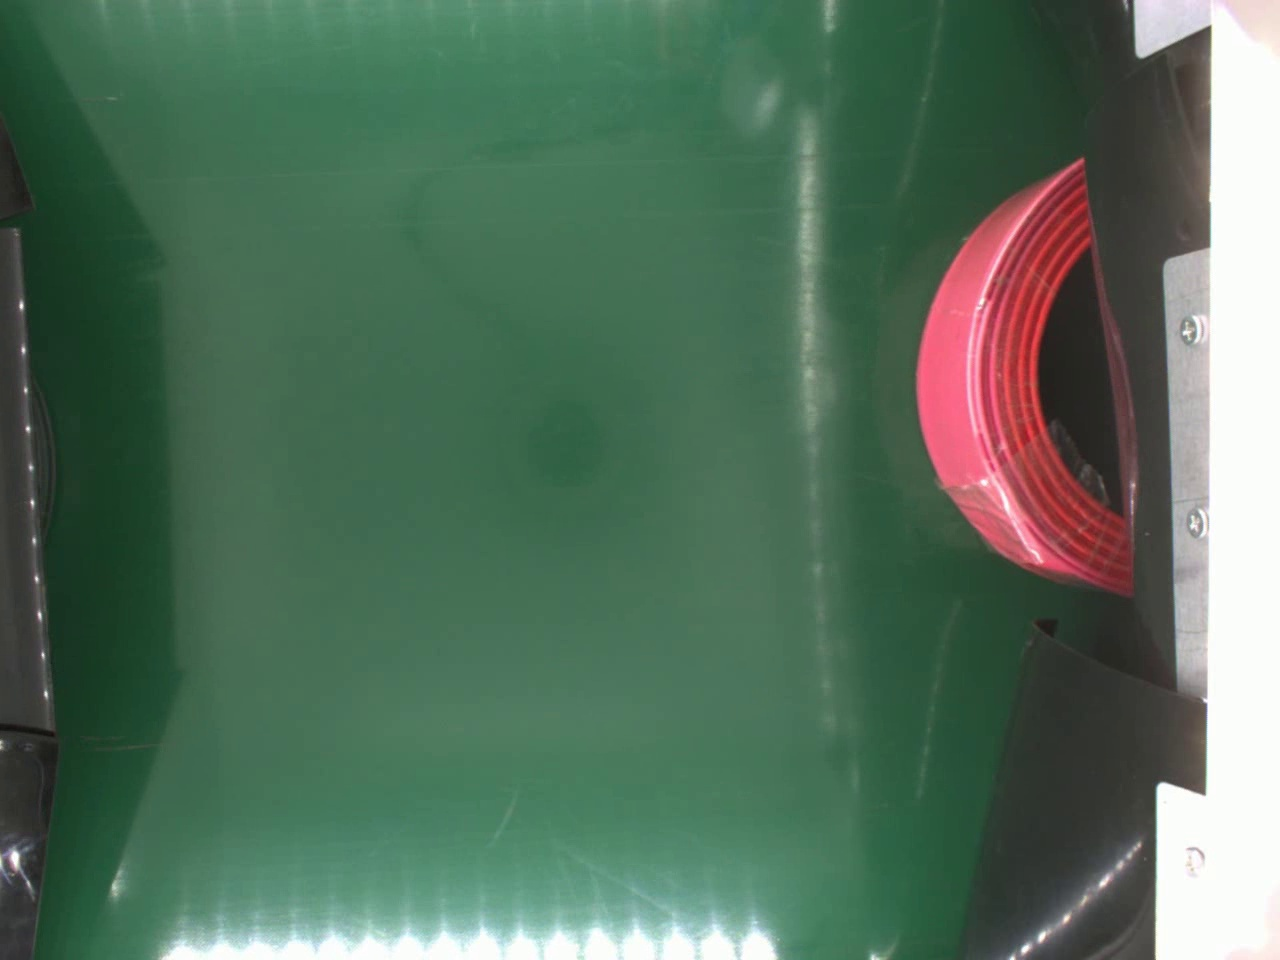red: (912, 147, 1139, 600)
